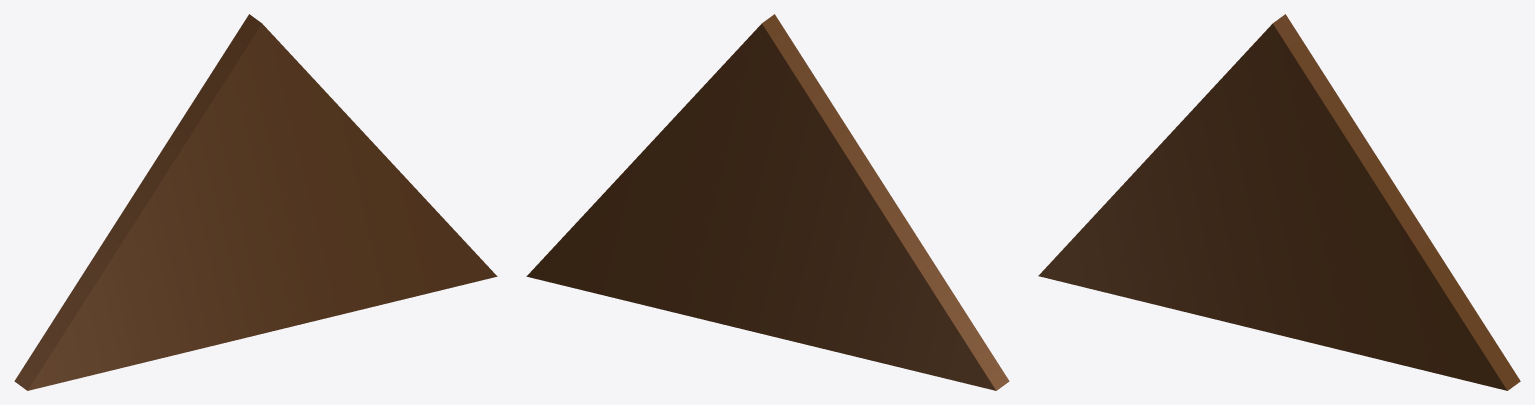
File: Farmhouse_Gable.gltf
The picture shows the model from 3 angles, left to right: view 1: azimuth 30°, elevation 25°; view 2: azimuth 150°, elevation 25°; view 3: azimuth 330°, elevation 25°; orthographic projection.
Visible parts, largest first — view 1: Farmhouse_Gable; view 2: Farmhouse_Gable; view 3: Farmhouse_Gable.
Boxes of the visible parts, left/top/right/bottom form: Farmhouse_Gable: left=14, top=14, right=497, bottom=390; Farmhouse_Gable: left=526, top=14, right=1009, bottom=390; Farmhouse_Gable: left=1038, top=14, right=1520, bottom=390.
Size of the model in its own units: 4.12 by 2.6 by 0.2.
Materials: 1 (1 with a texture image).
